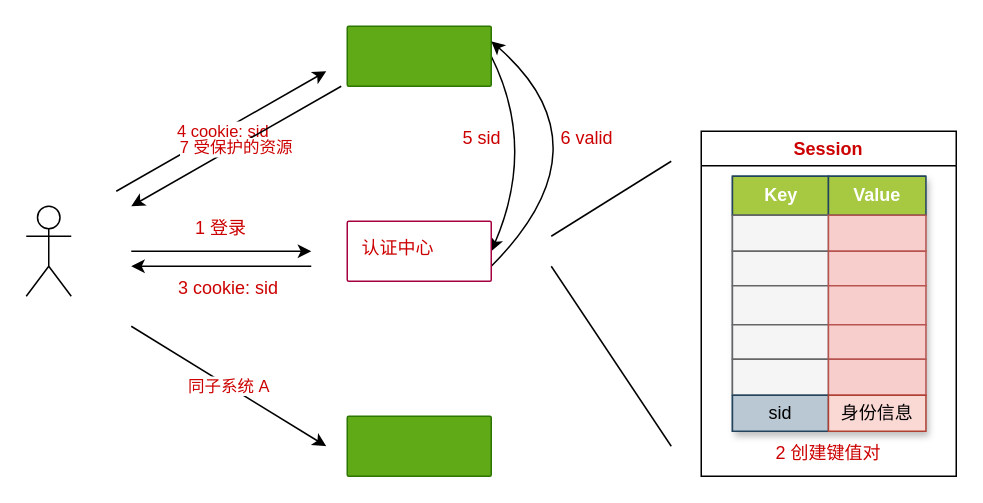
This 983x503 diagram has some shape labels left out. Here are the shapes that lost their labels. From the top down, the centre of each, then its label:
At (418,55): "子系统 A".
At (418,445): "子系统 B".
